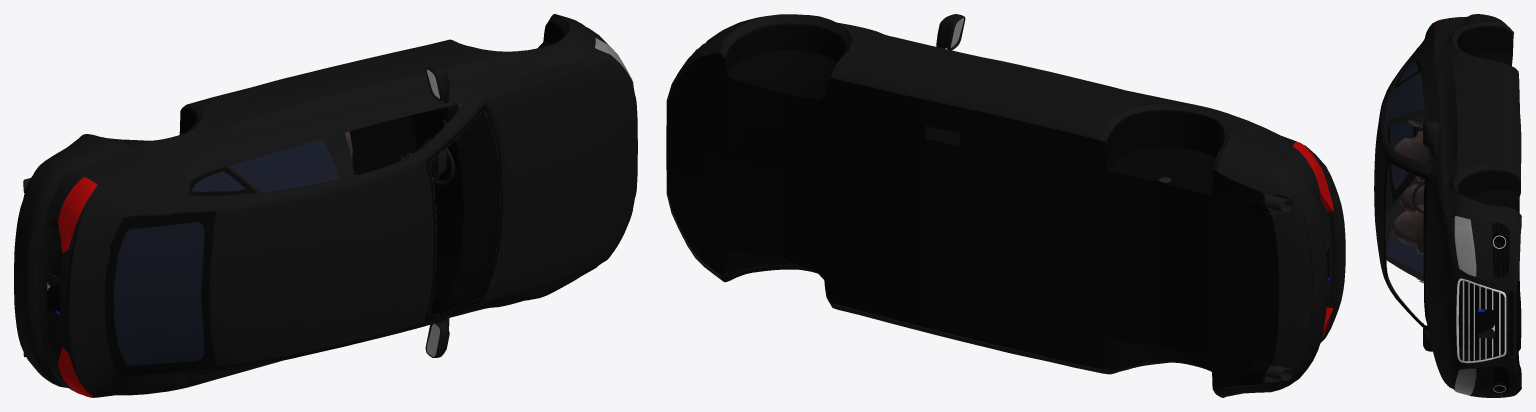
File: audi_chassis_black.obj
The picture shows the model from 3 angles, left to right: view 1: azimuth 30°, elevation 25°; view 2: azimuth 150°, elevation 25°; view 3: azimuth 270°, elevation 25°; orthographic projection. The views are drawn at different scales.
Parts seen in each view (by area): view 1: audi_chassis; view 2: audi_chassis; view 3: audi_chassis.
Boxes of the visible parts, x1,y1,x2,y2 form: audi_chassis: (14, 14, 637, 397); audi_chassis: (666, 14, 1345, 397); audi_chassis: (1374, 14, 1521, 397).
Bounding box in the file's own units: 4.88 × 2.19 × 1.28.
2 materials, 2 textured.
